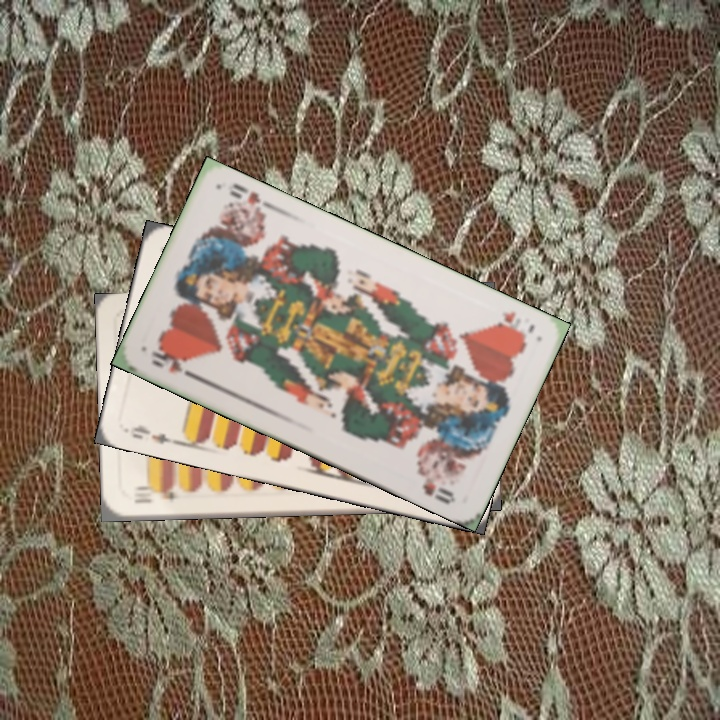E10: (130, 485, 177, 506)
E9: (122, 421, 181, 447)
HO: (147, 347, 199, 382), (489, 307, 537, 341)
